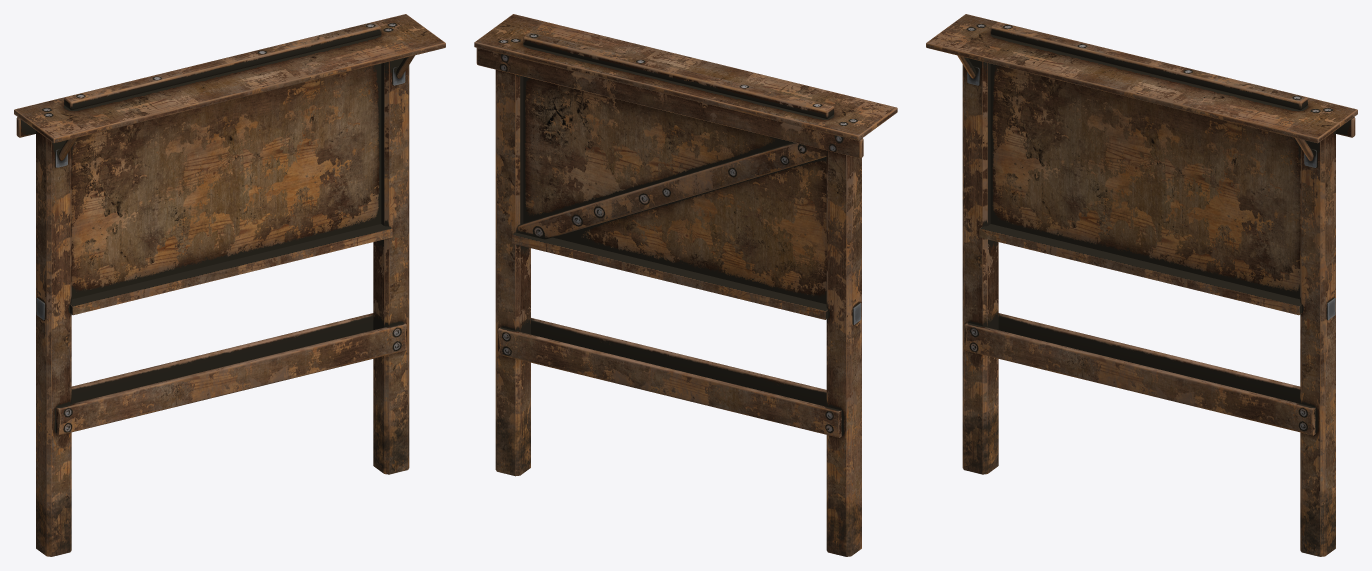
The model's file is board.glb.
3 renders of one model, left to right at view 1: azimuth 30°, elevation 25°; view 2: azimuth 150°, elevation 25°; view 3: azimuth 330°, elevation 25°, orthographic.
Parts seen in each view (by area): view 1: Symmetry_5; view 2: Symmetry_5; view 3: Symmetry_5.
Boxes of the visible parts, x1,y1,x2,y2 form: Symmetry_5: [14, 14, 445, 556]; Symmetry_5: [474, 14, 897, 556]; Symmetry_5: [926, 14, 1357, 556].
Size of the model in its own units: 2.35 by 2.55 by 0.4145.
1 material, 1 textured.
